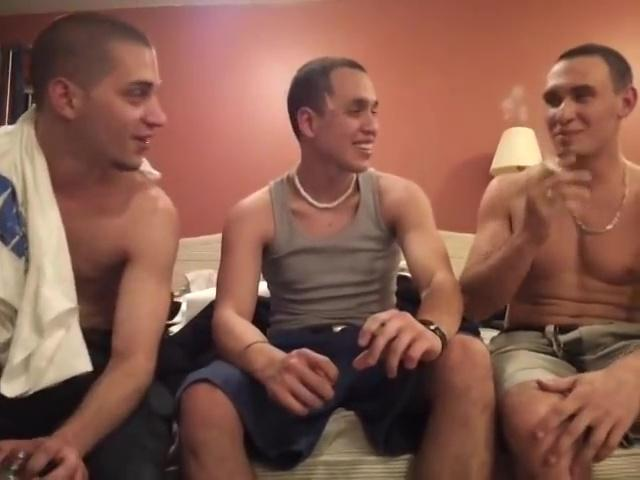cigarette: (370, 319, 387, 343), (542, 159, 562, 176)
